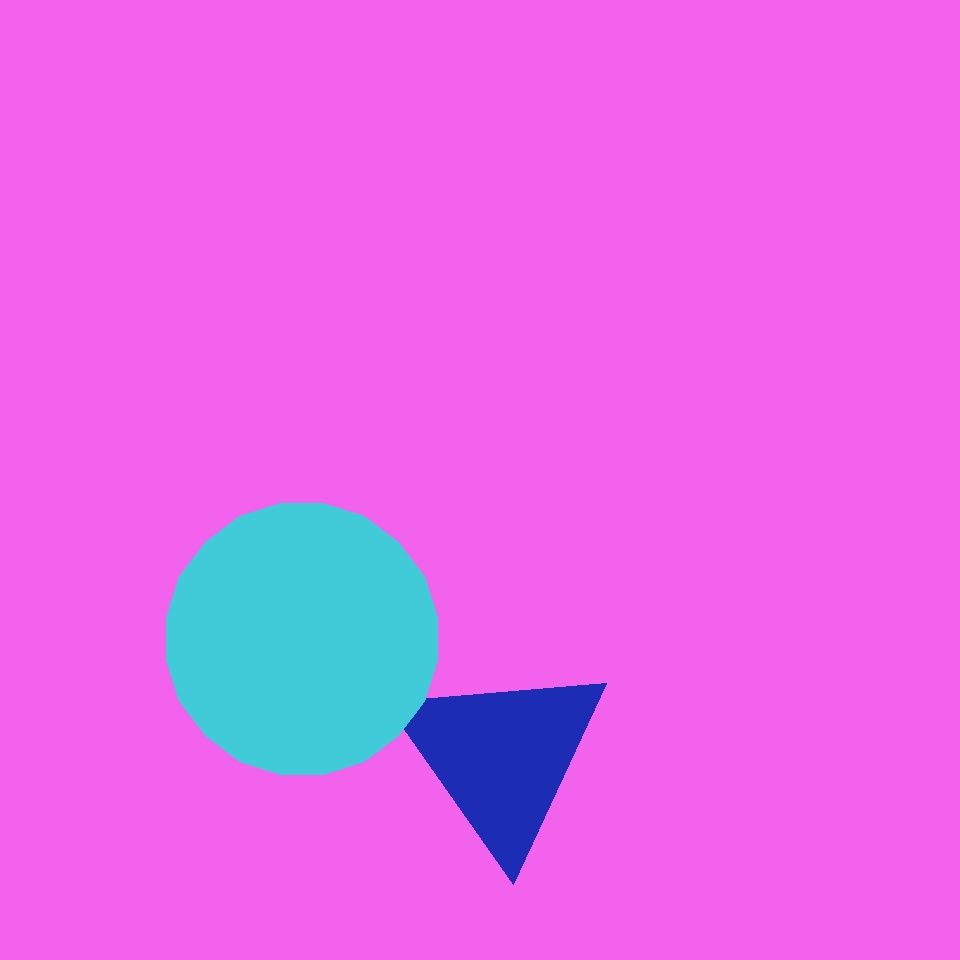circle: (392, 656, 612, 858)
triangle: (166, 504, 437, 774), (567, 588, 761, 782), (746, 448, 913, 615)
